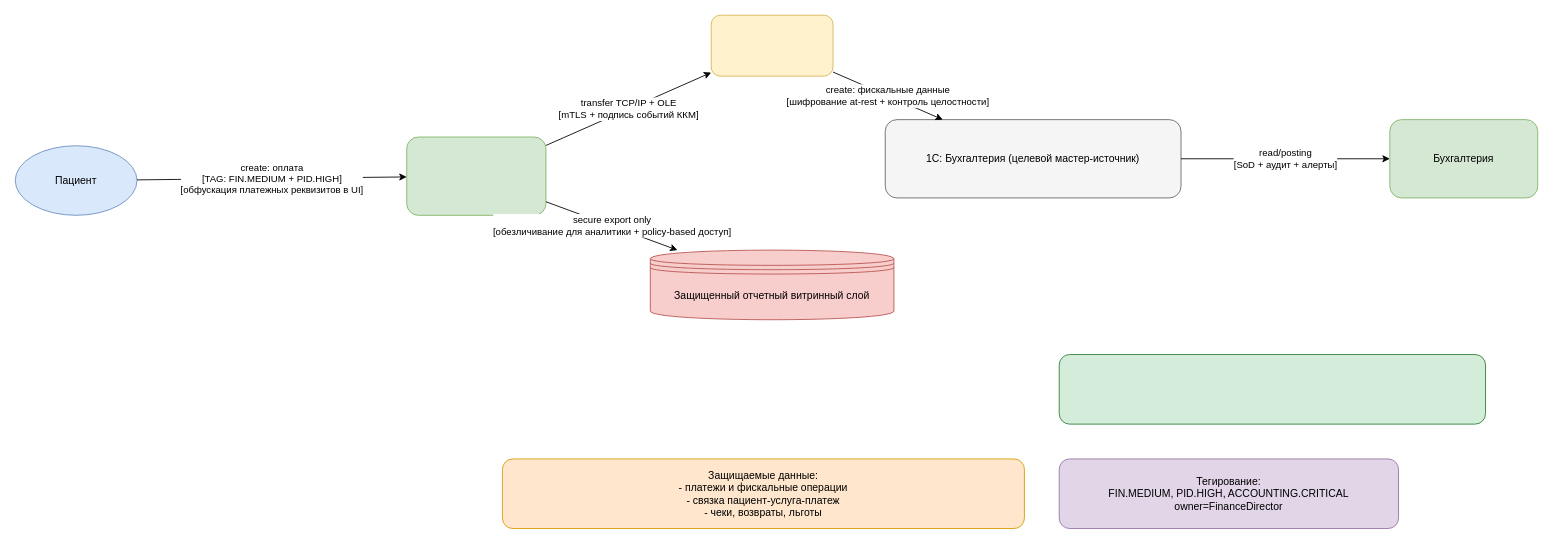
The diagram is 1553 pixels wide and 544 high, and some of its shapes have lost their labels. The shapes that lost their labels are listed below. From the top down, each one's centre as x and y in pixels, then its label:
the point at 771,45: ККМ
the point at 476,175: Кассир
the point at 1272,389: Инструменты/меры: токенизация, DLP, DB encryption, SIEM/UEBA, сверка ККМ-1С
